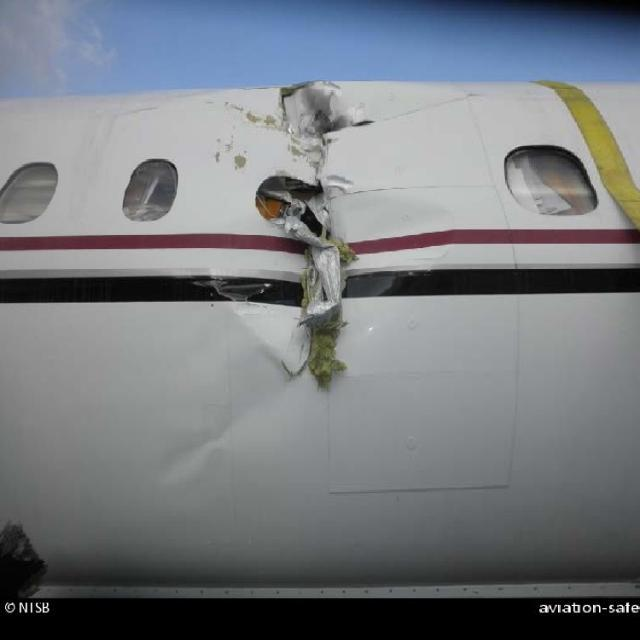crack: (252, 67, 387, 402)
dent: (152, 364, 319, 492), (325, 181, 462, 321)
